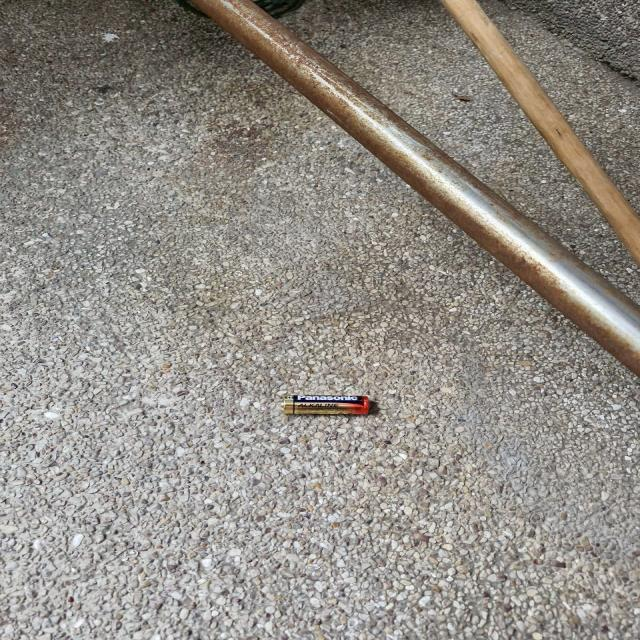battery: (284, 392, 369, 417)
